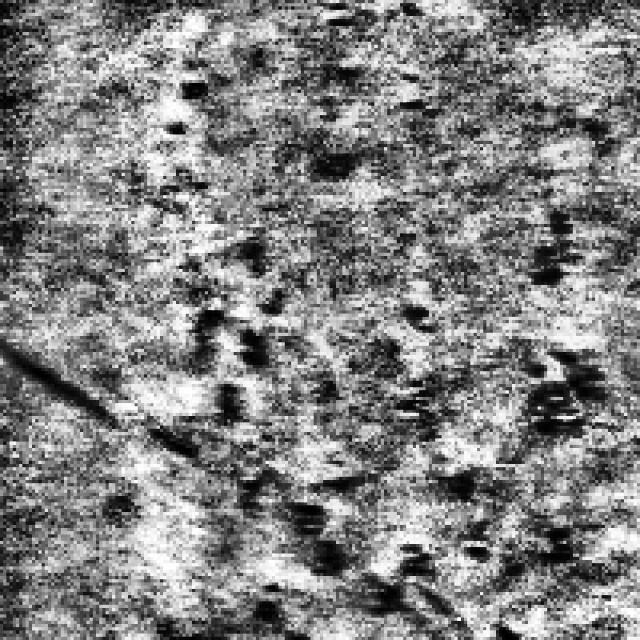Crazing: (154, 282, 432, 614), (508, 208, 612, 557), (307, 0, 435, 138)
